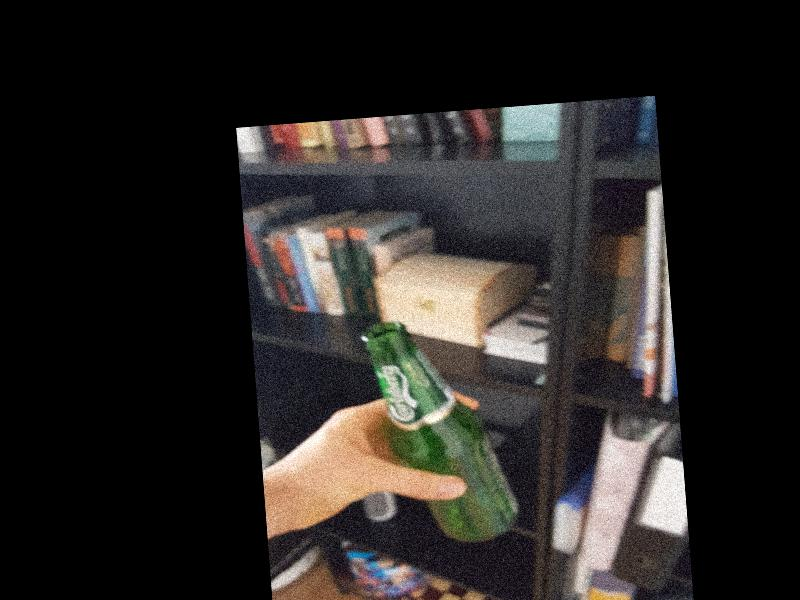Beer: (363, 313, 524, 549)
